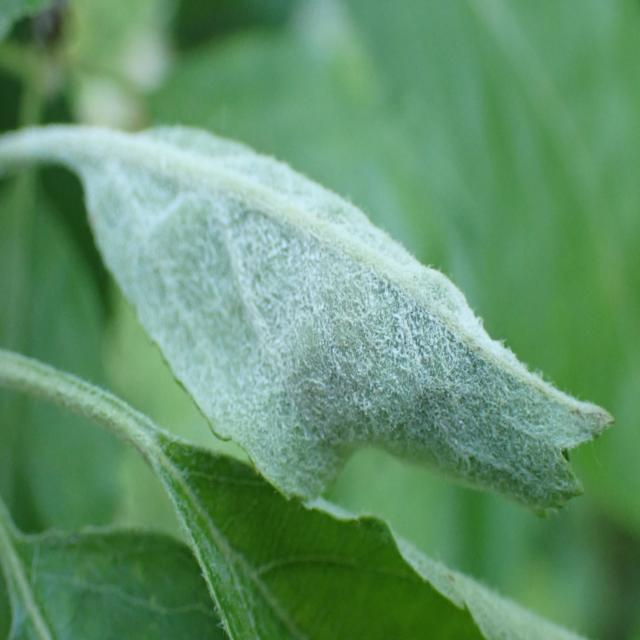Powdery_mildew: (49, 94, 600, 496)
